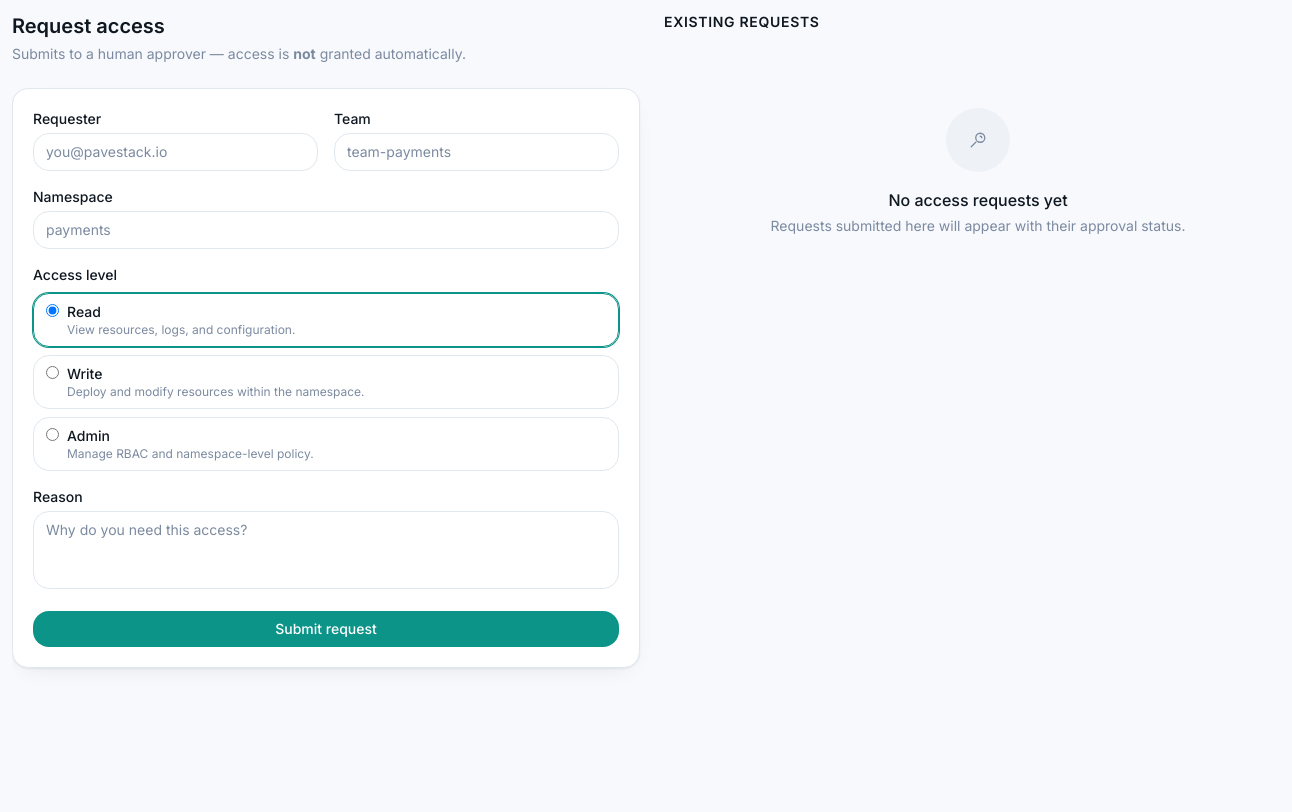
Test case: RequestAccess › submits the form and shows a pending confirmation
Expected: the text "No access requests yet" is shown, x1=888 y1=190 x2=1068 y2=210
In the field labelled "Requester": (176, 152) x1=33 y1=133 x2=318 y2=171, type "bob"
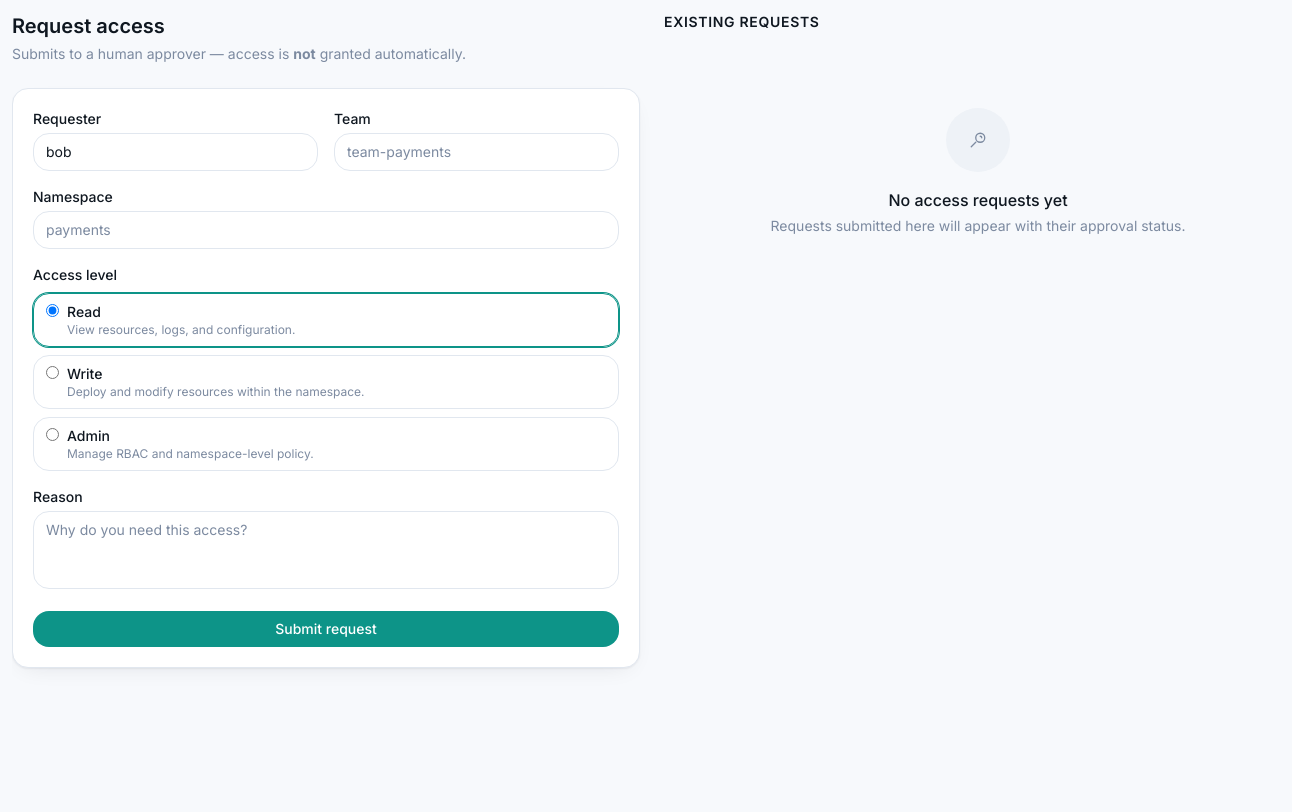
In the field labelled "Team": (476, 152) x1=334 y1=133 x2=619 y2=171, type "team-infra"
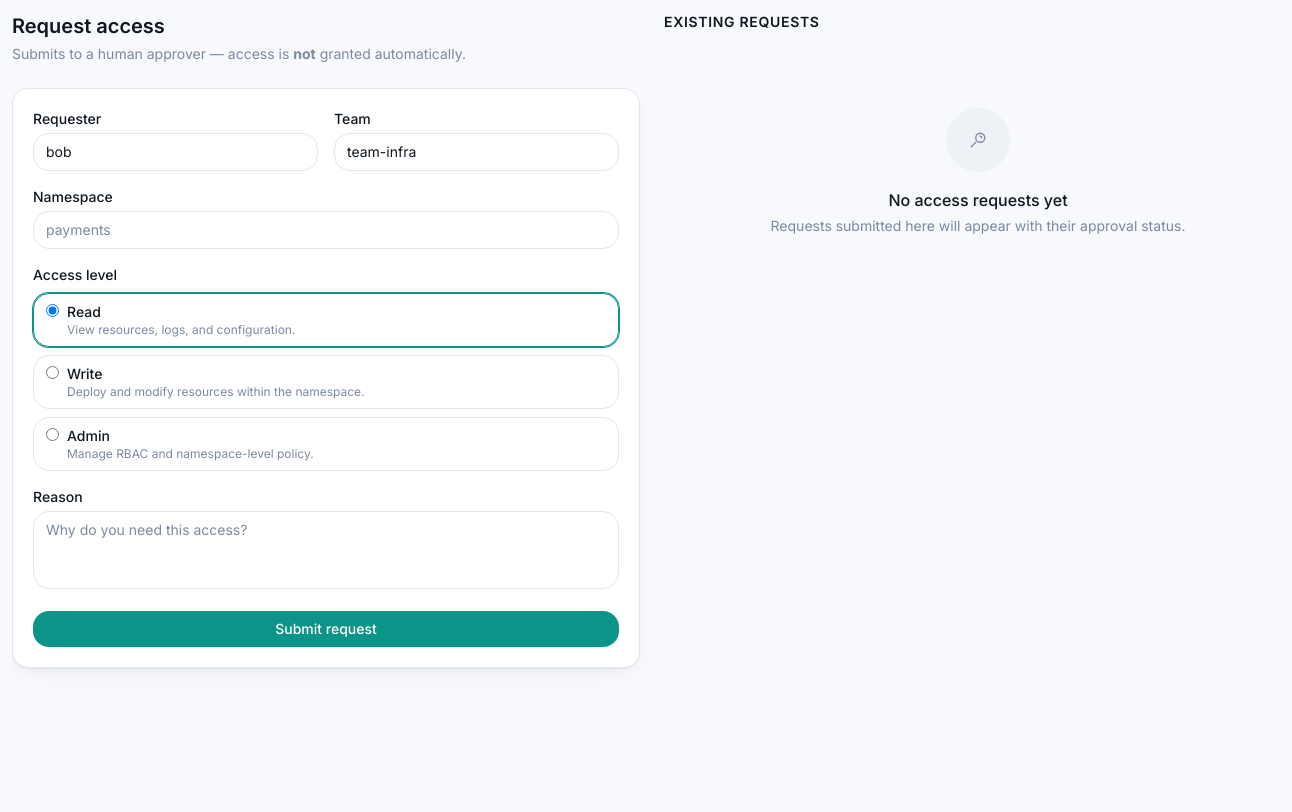
In the field labelled "Namespace": (326, 230) x1=33 y1=211 x2=619 y2=249, type "infra"
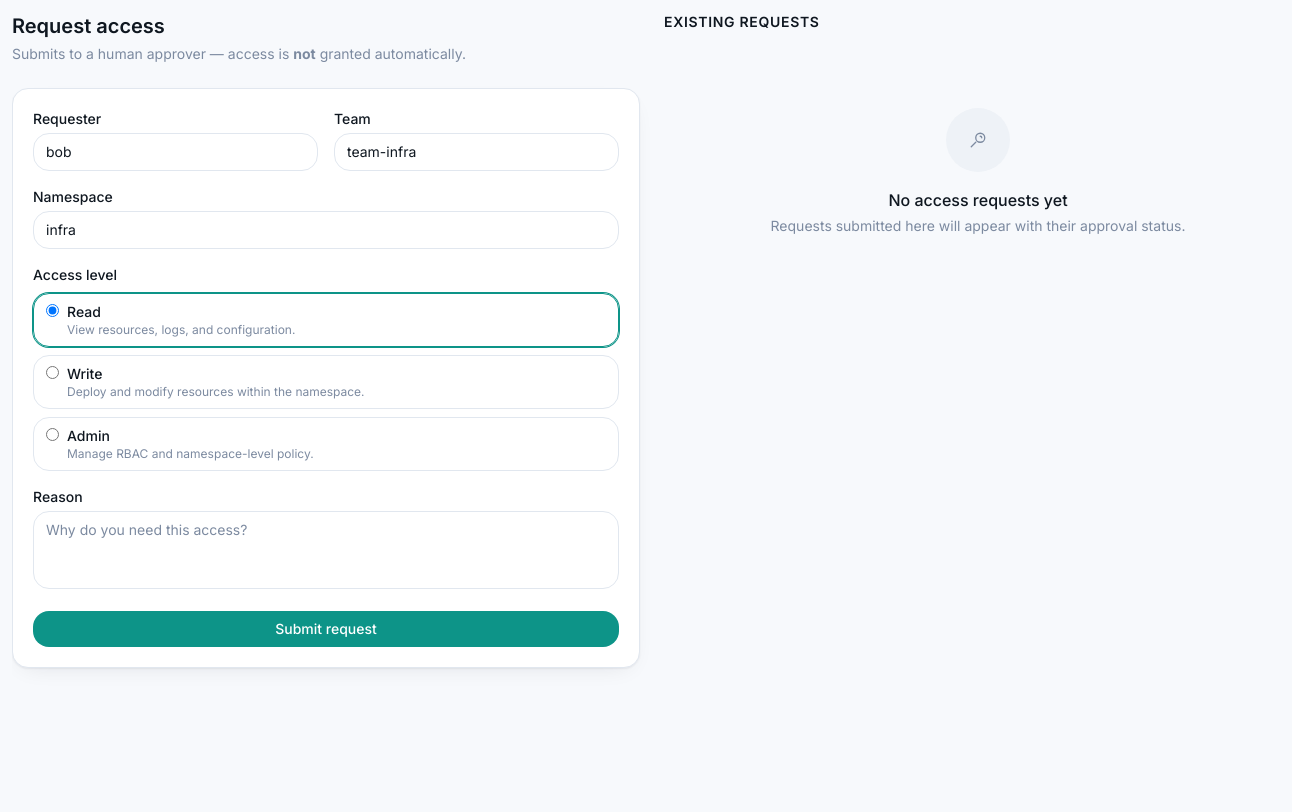
In the text box labelled "Reason": (326, 550) x1=33 y1=511 x2=619 y2=589, type "need write access"
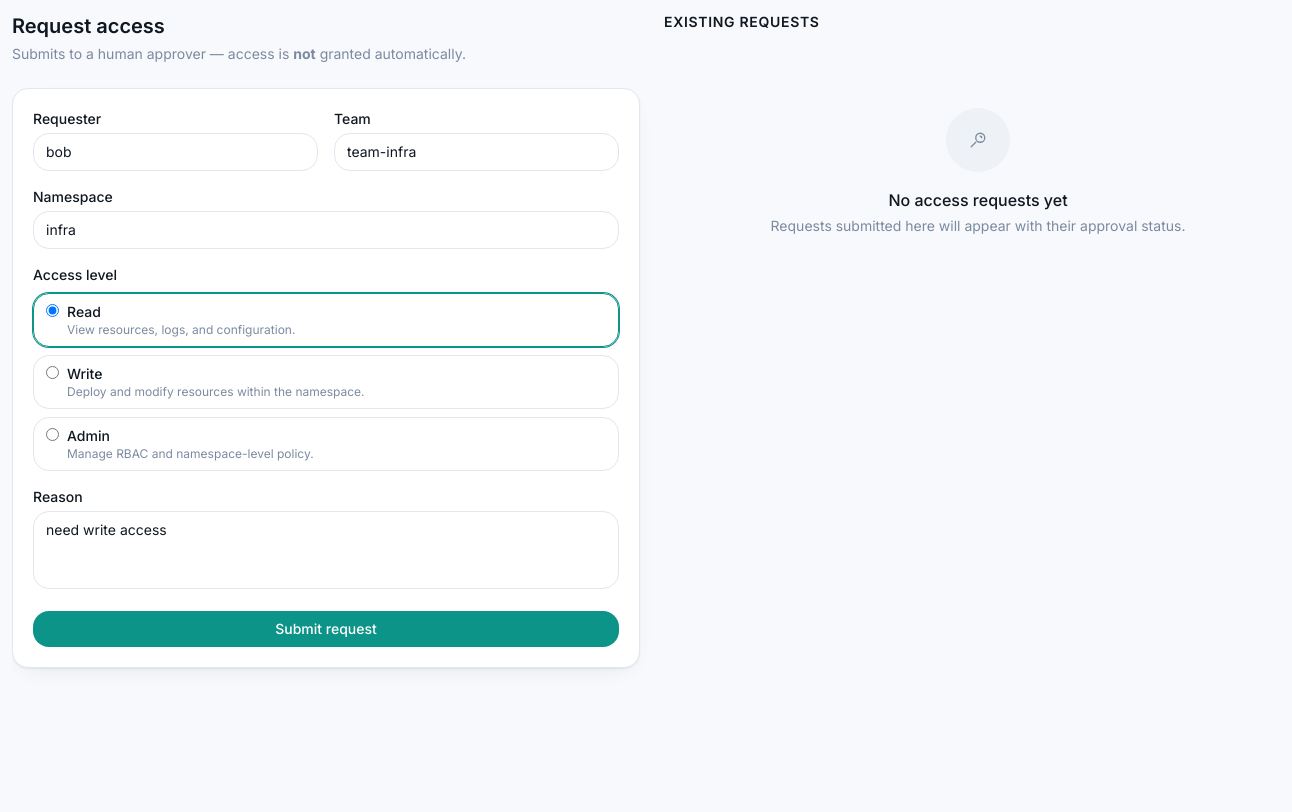
Click the button "Submit request": (326, 629) x1=33 y1=611 x2=619 y2=647
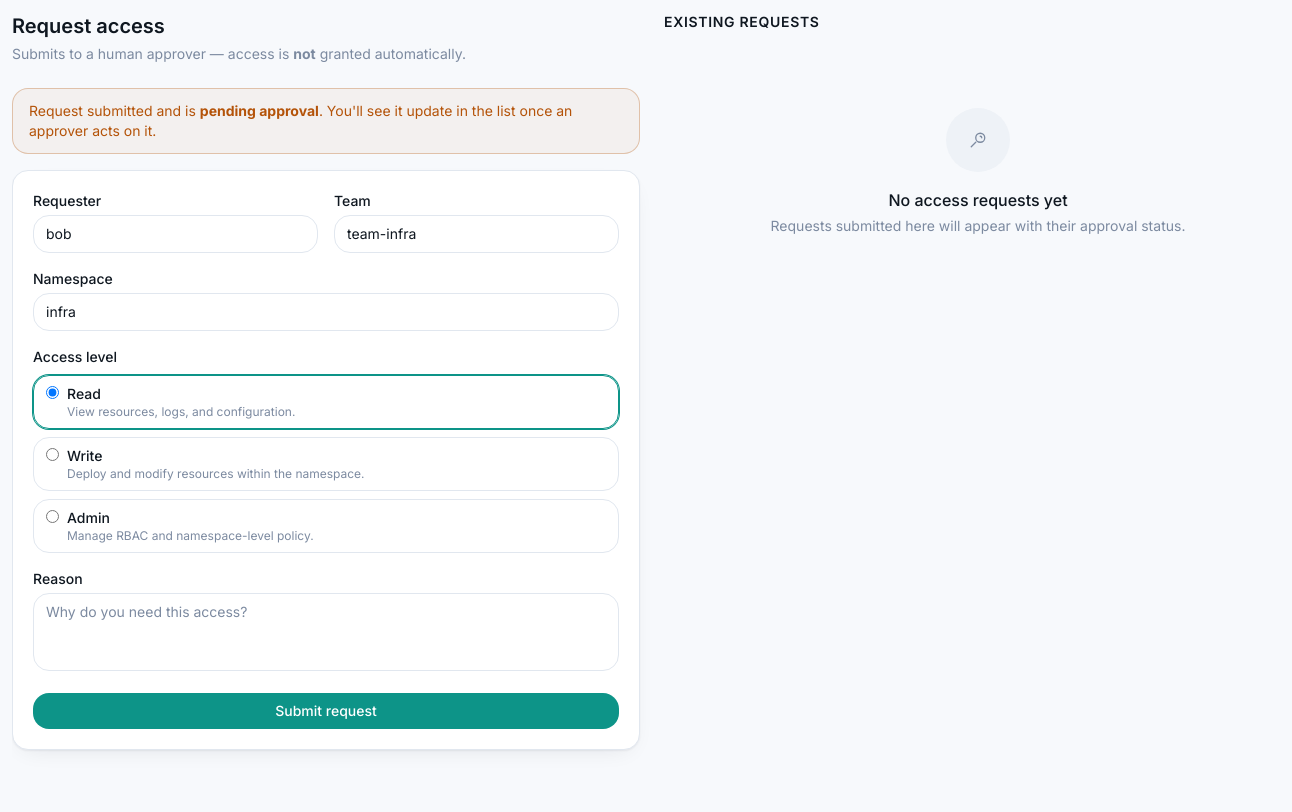
Expected: the text "pending approval" is shown, x1=200 y1=102 x2=319 y2=119
